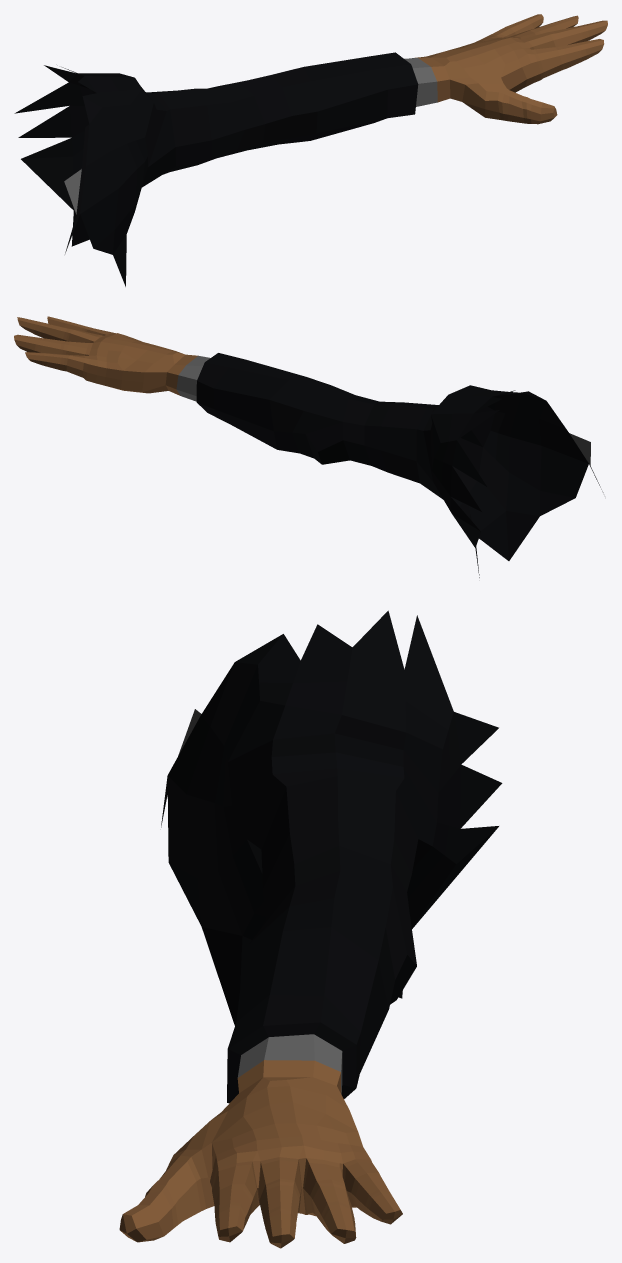
Rendered from BMan_Arm_L.obj.
3 views of the same model, one above another, from view 1: azimuth 30°, elevation 25°; view 2: azimuth 150°, elevation 25°; view 3: azimuth 270°, elevation 25° (orthographic). The views are drawn at different scales.
Size of the model in its own units: 0.8377 by 0.2824 by 0.248.
